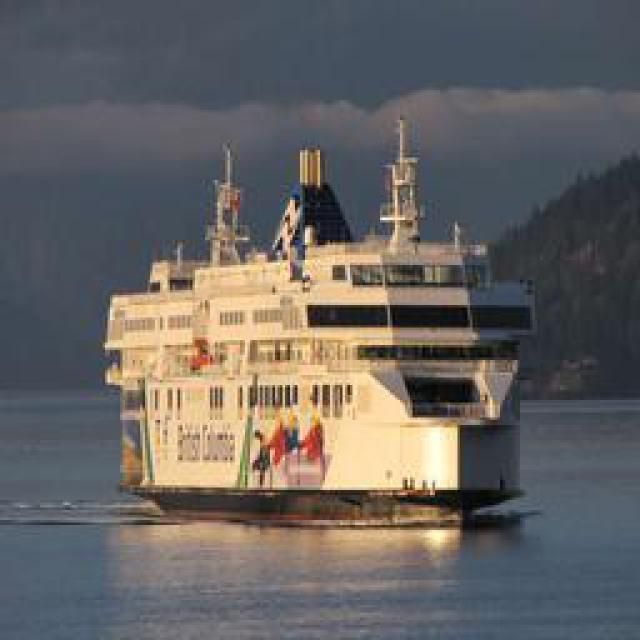Ship: (100, 113, 530, 521)
